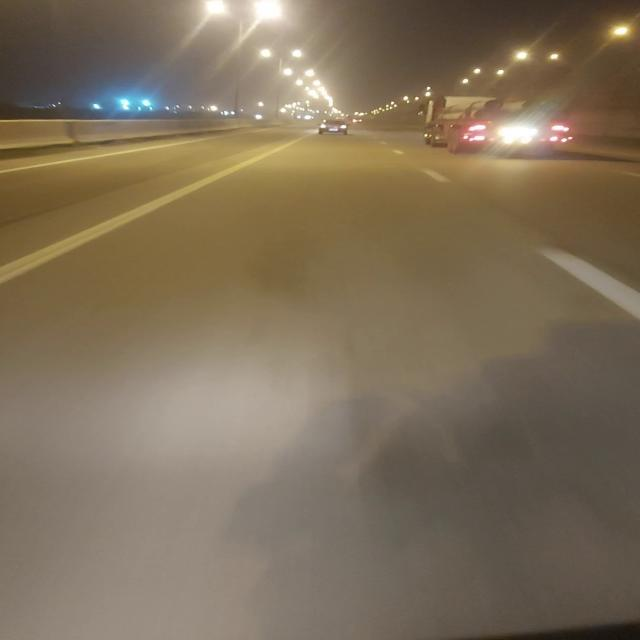Truck: (404, 85, 580, 157)
